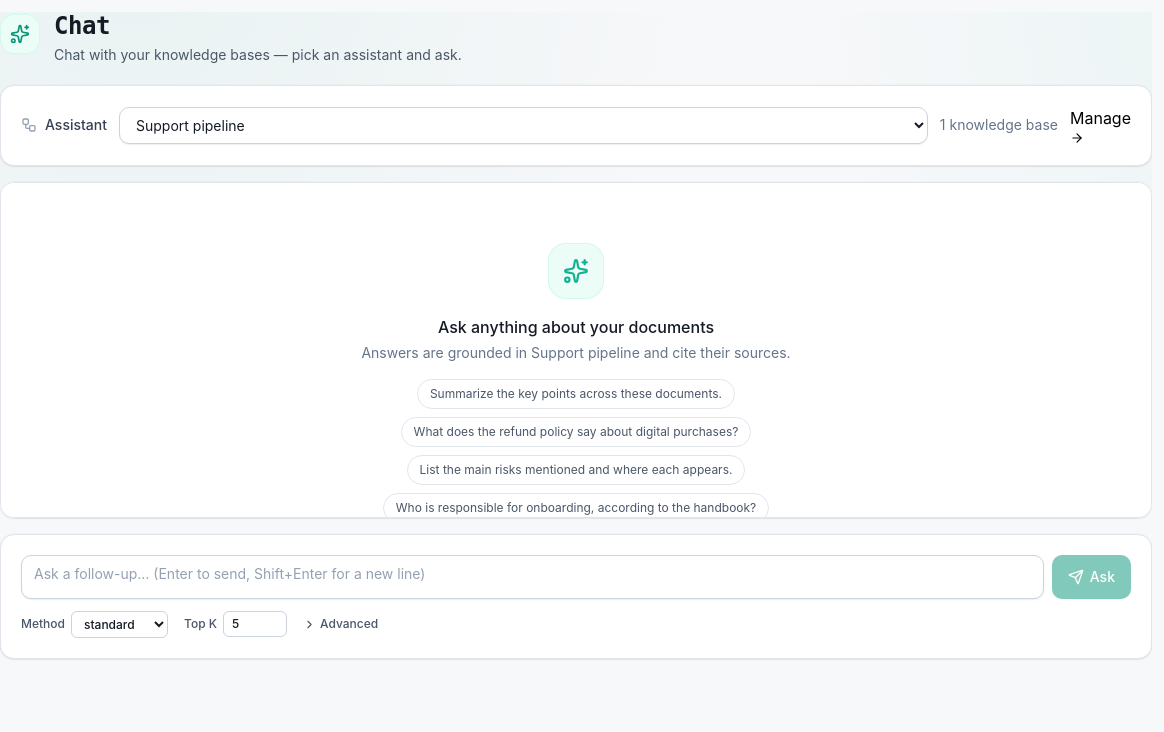
Test: AskPage › clicking a suggestion asks it directly
Expected: the text "Ask anything about your documents" is shown, [438,317,714,337]
Click the button "Summarize the key points across these documents.": coordinates (576, 394) [417,379,735,409]
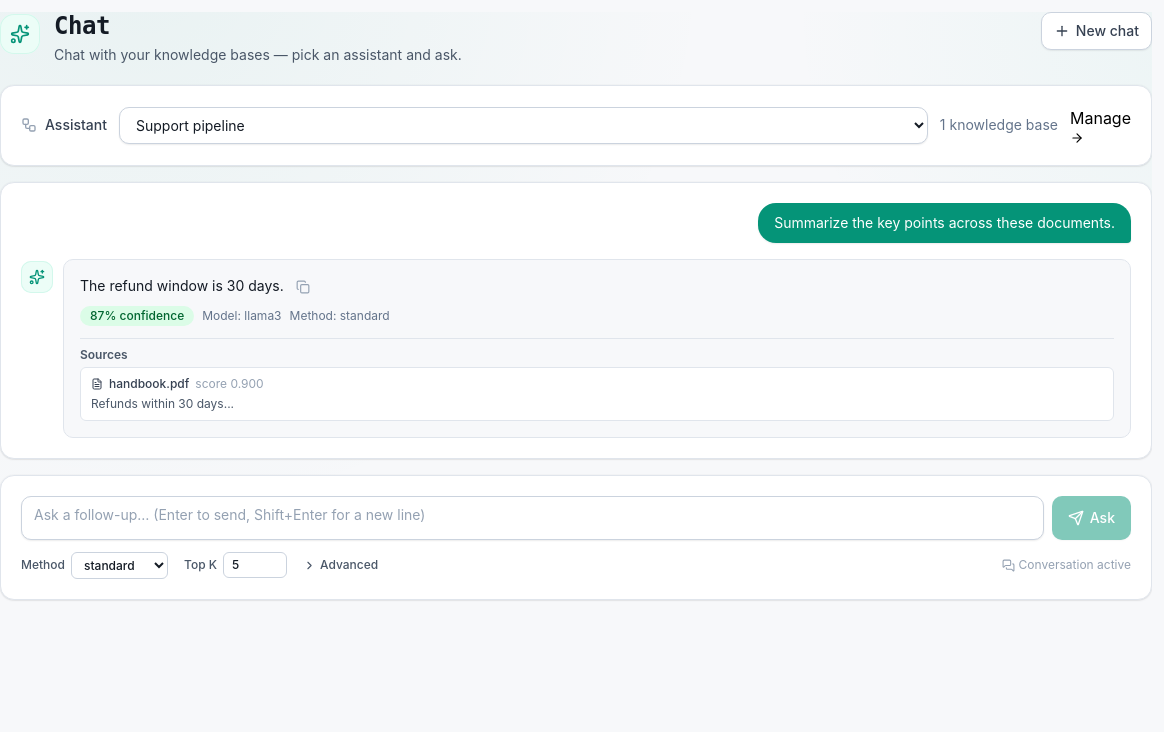
Expected: the text "The refund window is 30 days." is shown, [80,276,284,296]
